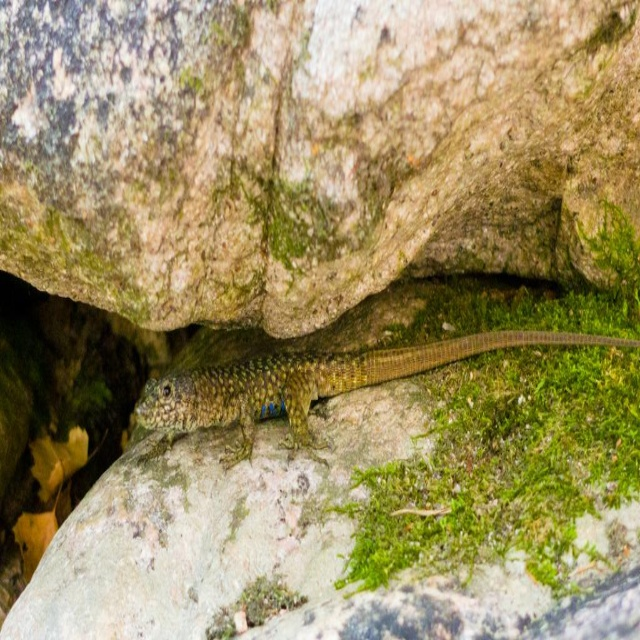Lizard: (125, 325, 635, 471)
